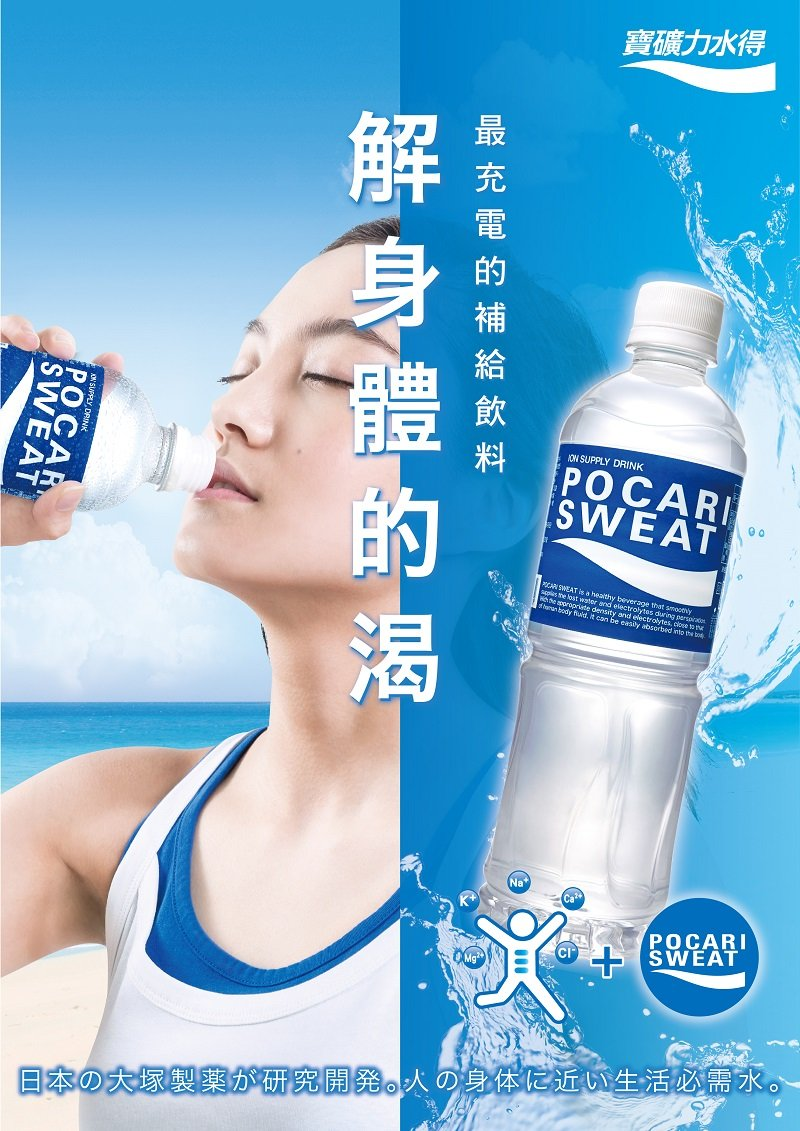POCARI SWEAT: (508, 274, 747, 949), (1, 358, 224, 500)
